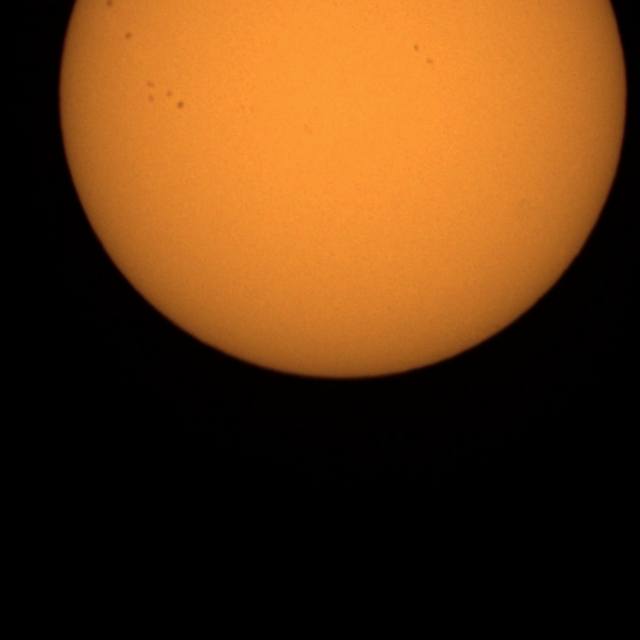sunspot: (145, 83, 184, 111), (412, 43, 436, 68), (162, 88, 186, 111), (145, 79, 157, 104), (175, 99, 186, 111), (123, 30, 134, 42), (425, 57, 434, 68), (412, 43, 420, 52)
